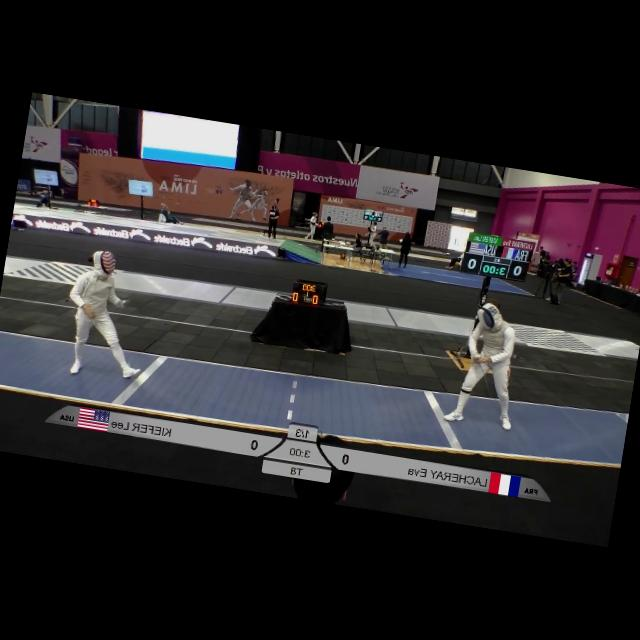blade: (464, 354, 500, 404)
